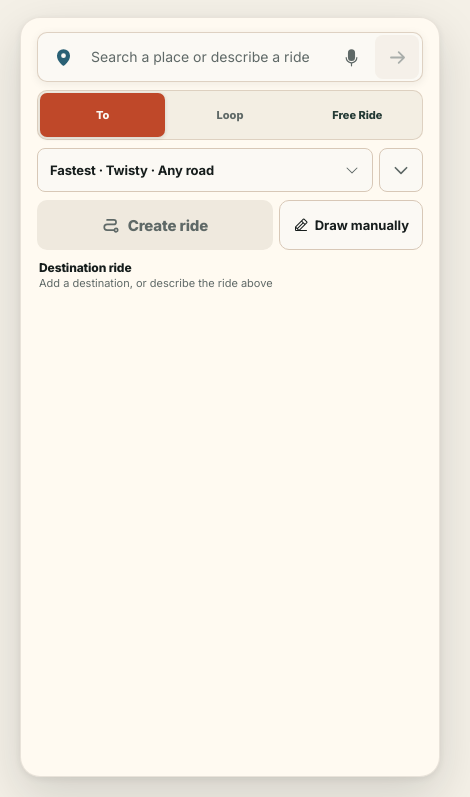
Scenario: V2 compact Plan composer › keeps trip shape separate from route personality and uses the Loop prompt
The width and height of the screenshot is (470, 797).
Step 1. Click the button "Loop" → point(230, 115), box x1=167 y1=93 x2=293 y2=137
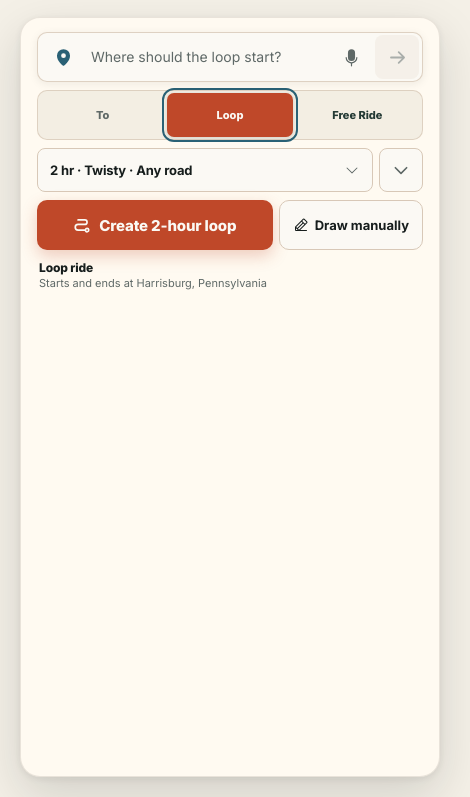
Result: the dropdown with placeholder "Where should the loop start?" is shown at x1=87 y1=42 x2=327 y2=72
Result: the button "Fastest" is gone
